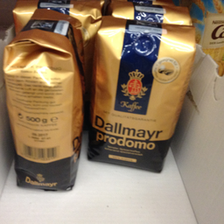coffee: (87, 16, 197, 174), (4, 10, 83, 191)
